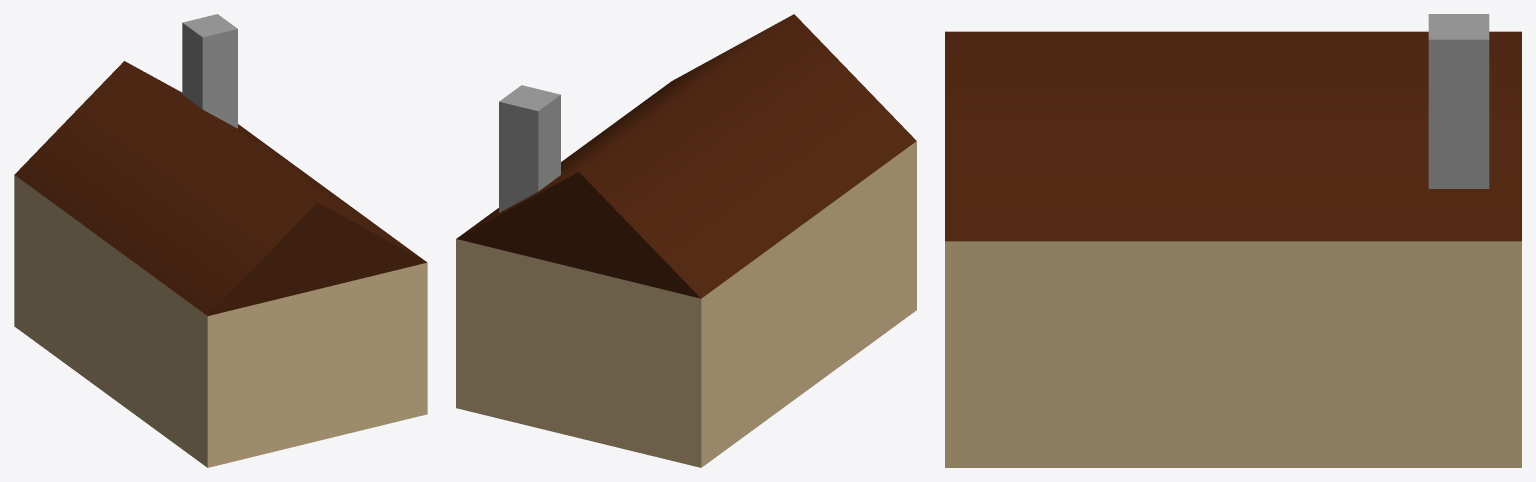
Rendered from House Game Asset.fbx.
The picture shows the model from 3 angles, left to right: view 1: azimuth 30°, elevation 25°; view 2: azimuth 150°, elevation 25°; view 3: azimuth 270°, elevation 25°; orthographic projection. The views are drawn at different scales.
Visible parts, largest first — view 1: Box001, Box002; view 2: Box001, Box002; view 3: Box001, Box002.
Boxes of the visible parts, left/top/right/bottom form: Box001: left=14, top=61, right=427, bottom=467; Box002: left=182, top=14, right=237, bottom=128; Box001: left=456, top=14, right=916, bottom=467; Box002: left=499, top=85, right=560, bottom=212; Box001: left=945, top=31, right=1521, bottom=467; Box002: left=1428, top=14, right=1489, bottom=188.
Size of the model in its own units: 79.27 by 94.27 by 121.
1 material, 1 textured.
